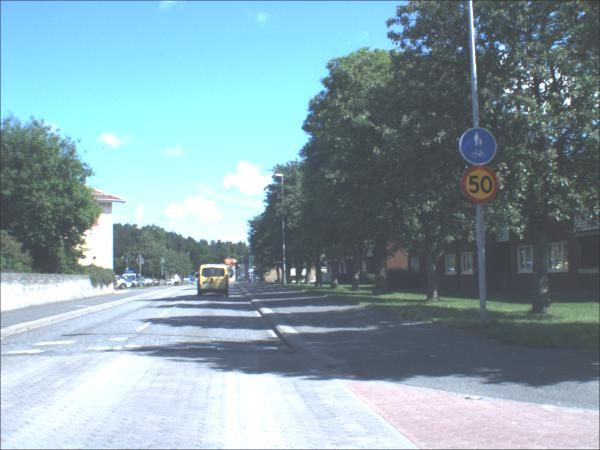50_SIGN: (462, 166, 500, 205)
